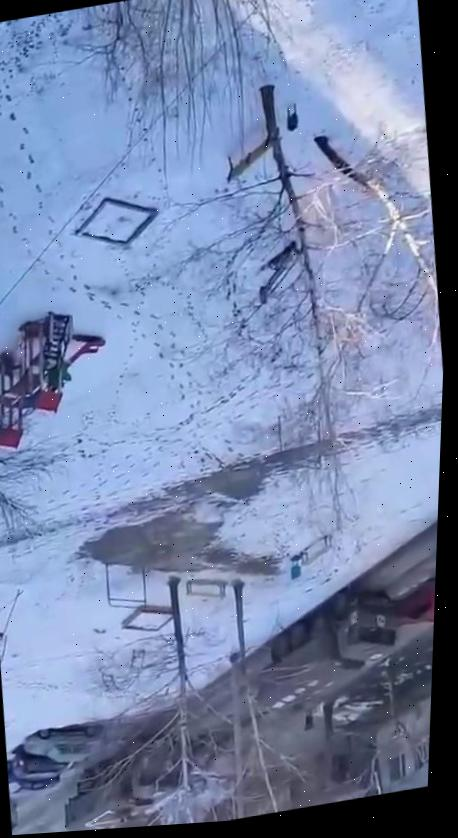car: (21, 717, 106, 771), (9, 739, 86, 782), (388, 574, 436, 632), (5, 753, 63, 799)
truck: (245, 578, 408, 726), (57, 726, 194, 832)
